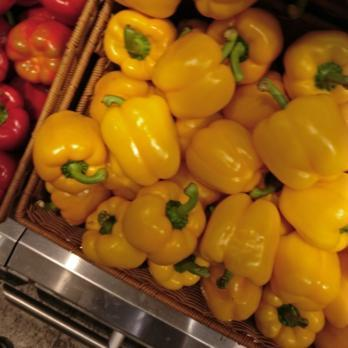Capsicum: (102, 0, 348, 329), (35, 109, 109, 187), (0, 1, 23, 186), (29, 4, 54, 93)
